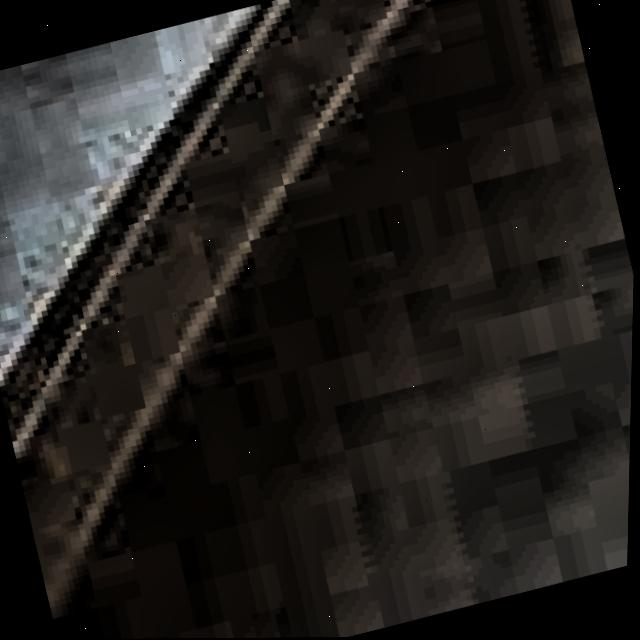paper: (7, 0, 635, 640)
